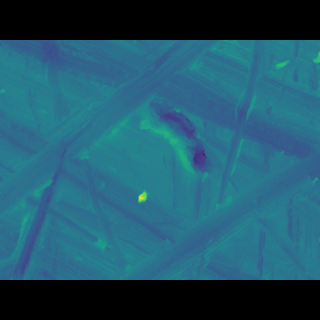Loch: (0, 66, 221, 203), (124, 155, 320, 251), (213, 69, 265, 194)
